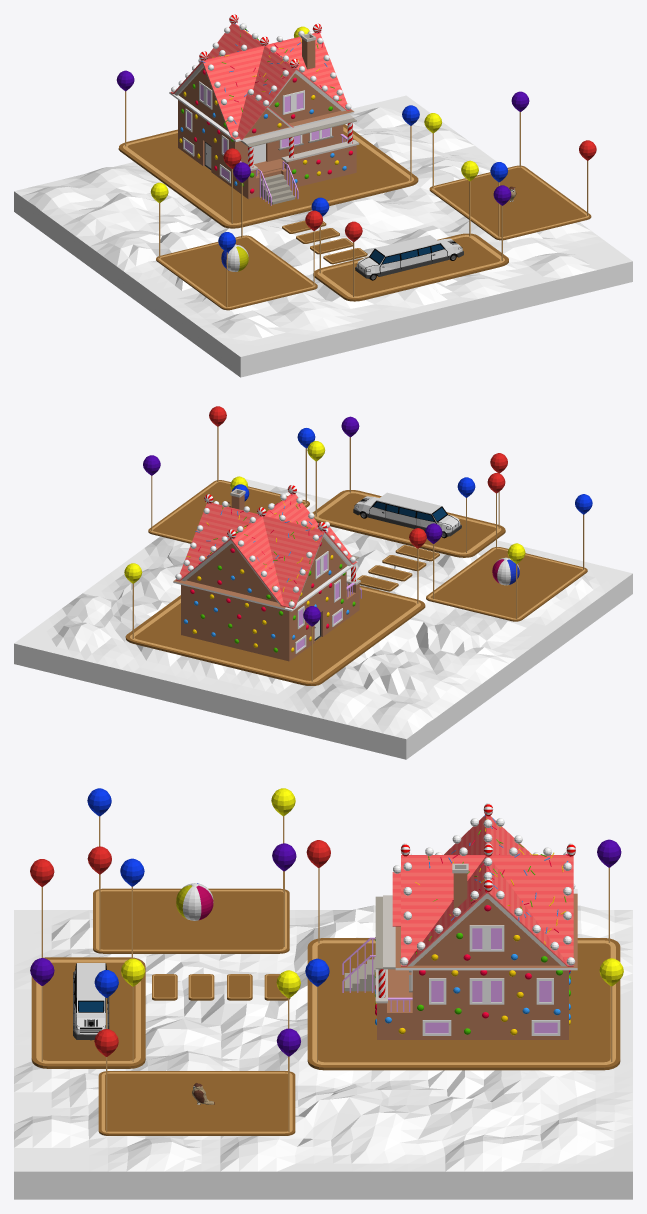
3 views of the same model, one above another, from view 1: azimuth 30°, elevation 25°; view 2: azimuth 150°, elevation 25°; view 3: azimuth 270°, elevation 25° (orthographic). The views are drawn at different scales.
Visible parts, largest first — view 1: Cube.013, Cube.1203, VEHICLES_LIMOUSINE, OBJRANDOM_BEACHBALL; view 2: Cube.013, Cube.1203, VEHICLES_LIMOUSINE, OBJRANDOM_BEACHBALL; view 3: Cube.013, Cube.1203, VEHICLES_LIMOUSINE, OBJRANDOM_BEACHBALL.
Boxes of the visible parts, <box> form: Cube.013: <box>14,26,632,377</box>; Cube.1203: <box>169,14,359,205</box>; VEHICLES_LIMOUSINE: <box>355,235,463,280</box>; OBJRANDOM_BEACHBALL: <box>221,244,248,271</box>; Cube.013: <box>14,406,632,759</box>; Cube.1203: <box>173,485,361,661</box>; VEHICLES_LIMOUSINE: <box>353,492,461,538</box>; OBJRANDOM_BEACHBALL: <box>492,557,519,585</box>; Cube.013: <box>14,788,632,1199</box>; Cube.1203: <box>342,803,577,1039</box>; VEHICLES_LIMOUSINE: <box>73,963,109,1040</box>; OBJRANDOM_BEACHBALL: <box>176,883,213,920</box>.
Size of the model in its own units: 4000 by 1690 by 4000.
47 materials, 2 textured.
